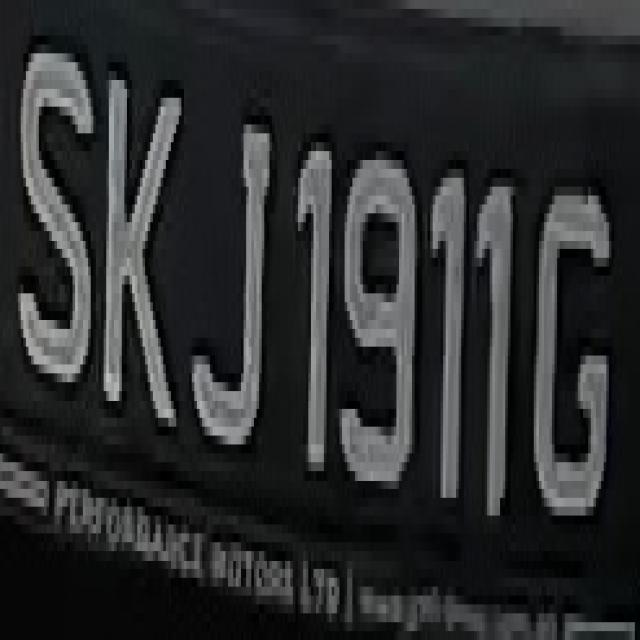1: (474, 151, 518, 587), (296, 116, 340, 471), (438, 142, 464, 542)
9: (329, 151, 428, 551)
G: (536, 151, 612, 542)
J: (194, 89, 280, 471)
K: (101, 45, 194, 462)
S: (10, 36, 99, 400)
